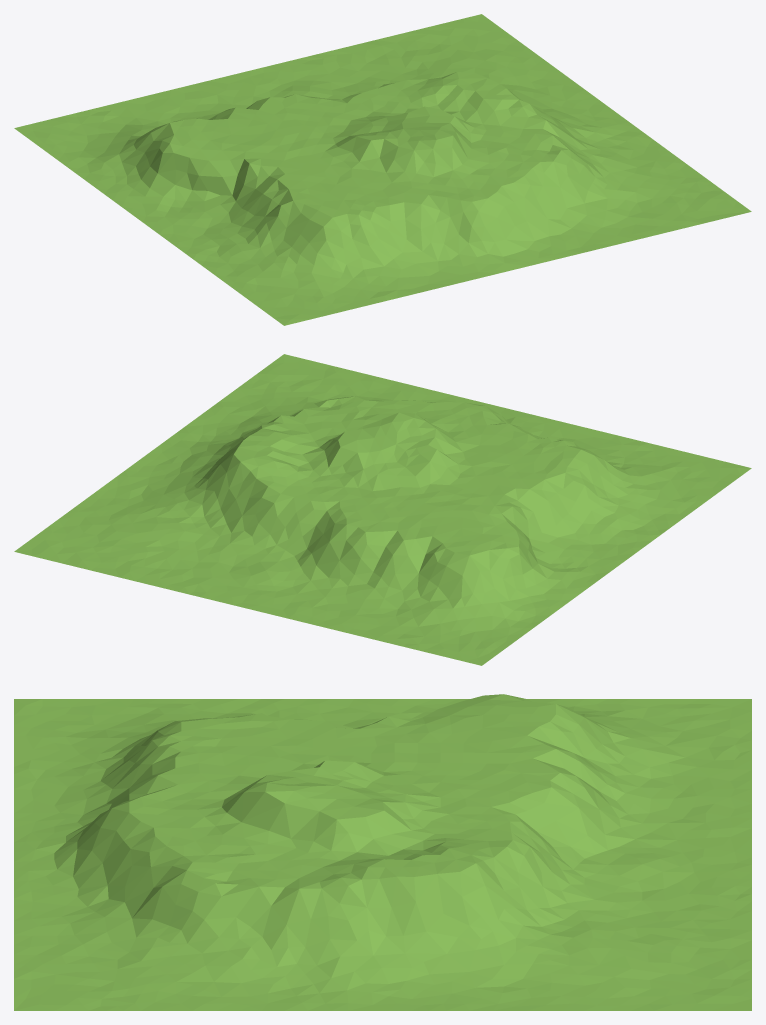
The model's file is MT_Terrain_L_c_03_LOD.fbx.
3 renders of one model, top to bottom at view 1: azimuth 30°, elevation 25°; view 2: azimuth 150°, elevation 25°; view 3: azimuth 270°, elevation 25°, orthographic. The views are drawn at different scales.
Parts seen in each view (by area): view 1: MT_Terrain_L_c_03_LOD0; view 2: MT_Terrain_L_c_03_LOD0; view 3: MT_Terrain_L_c_03_LOD0.
Part boxes in pixels (x1=…): MT_Terrain_L_c_03_LOD0: x1=14, y1=14, x2=751, y2=325; MT_Terrain_L_c_03_LOD0: x1=14, y1=354, x2=751, y2=665; MT_Terrain_L_c_03_LOD0: x1=14, y1=694, x2=751, y2=1010.
Size of what is drawn, in the model's own units: 10000 by 1221 by 10000.
